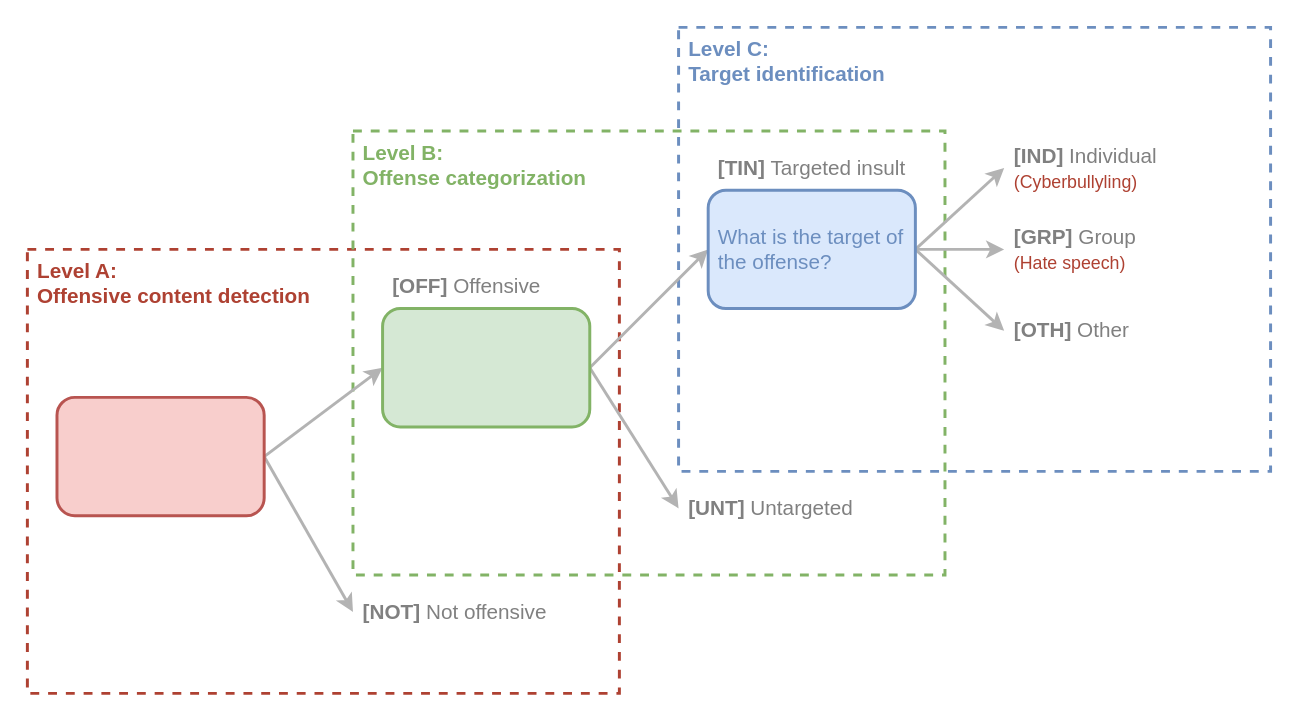
This 1296x719 diagram has some shape labels left out. Here are the shapes that lost their labels. From the top down, the centre of each, then its label:
At (485,367): "Is the offensive text targeted?".
At (160,456): "Is it offensive?".
